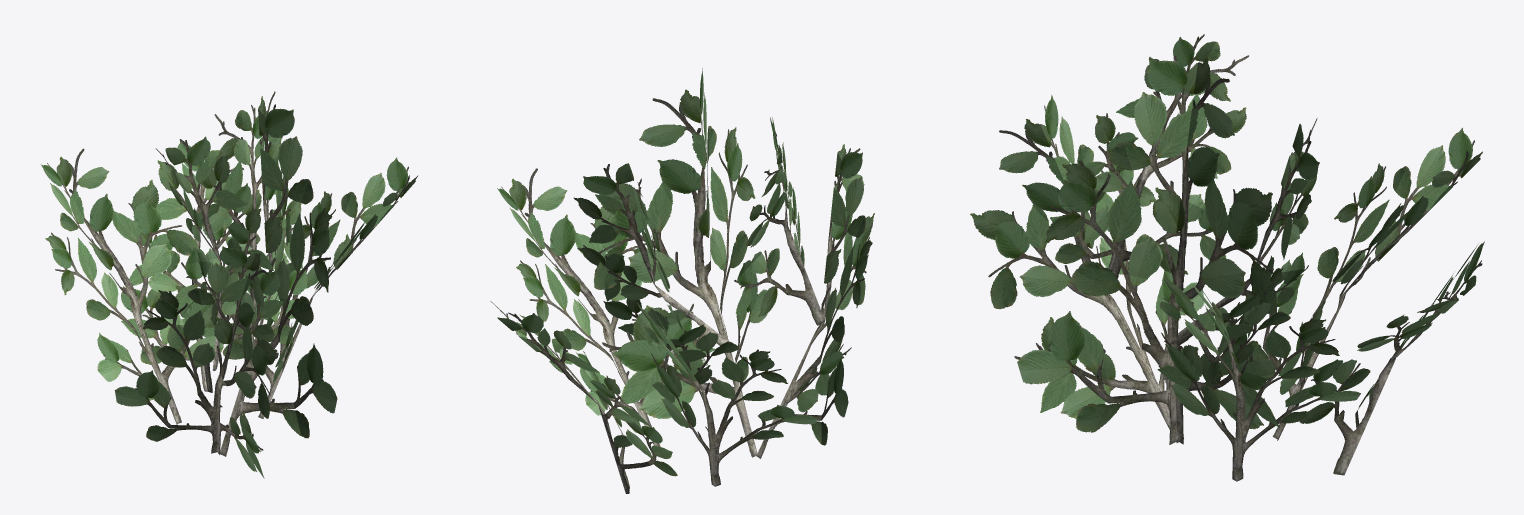
The model's file is Bush - Bush1-_75D3INv.glb.
3 views of the same model, side by side, from view 1: azimuth 30°, elevation 25°; view 2: azimuth 150°, elevation 25°; view 3: azimuth 270°, elevation 25° (orthographic). The views are drawn at different scales.
Parts seen in each view (by area): view 1: Bush1_LOD0; view 2: Bush1_LOD0; view 3: Bush1_LOD0.
Boxes of the visible parts, x1,y1,x2,y2 form: Bush1_LOD0: [40, 91, 418, 478]; Bush1_LOD0: [490, 68, 874, 493]; Bush1_LOD0: [970, 34, 1484, 481].
Size of the model in its own units: 1.31 by 1.42 by 1.49.
1 material, 1 textured.
